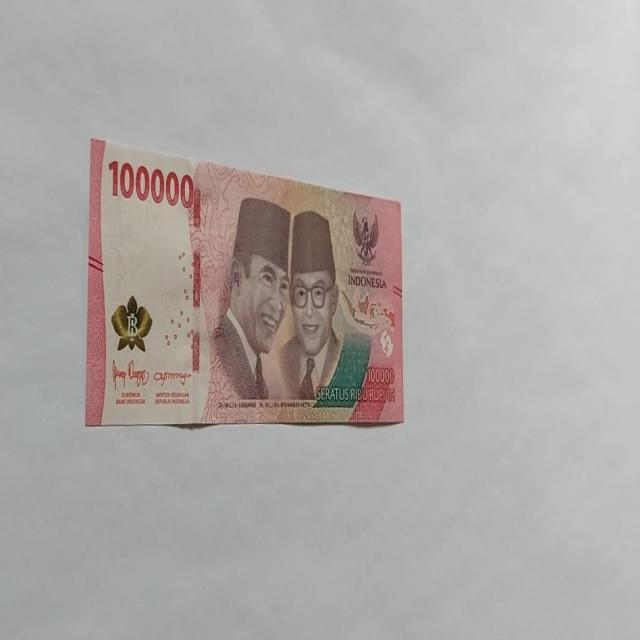seratus ribu rupiah: (84, 136, 404, 430)
